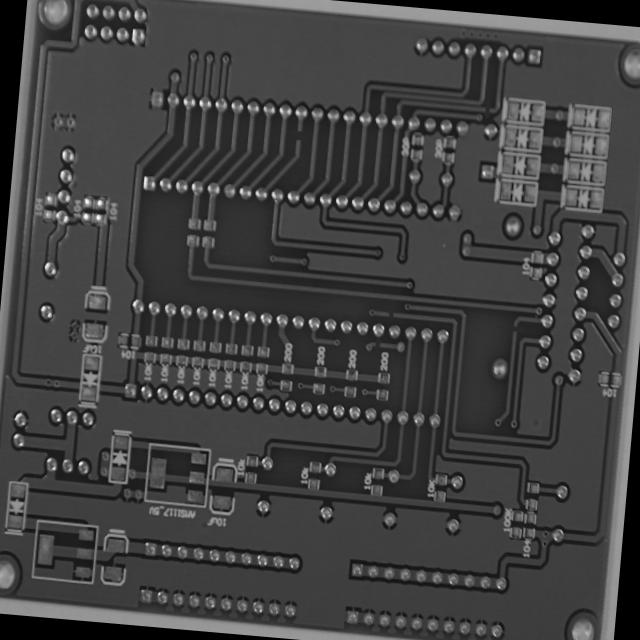open_circuit: (291, 125, 306, 144), (509, 322, 520, 336), (481, 104, 493, 116), (386, 308, 396, 320), (372, 338, 382, 350)
